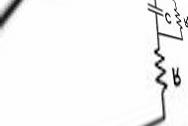resistor: (144, 42, 168, 93), (170, 3, 182, 29)
